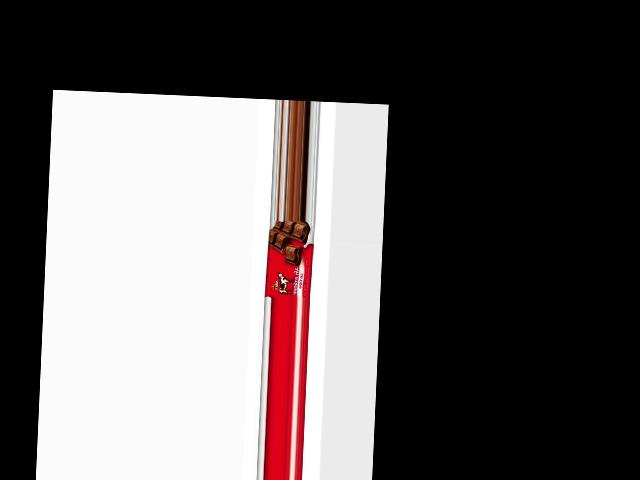chocolate: (265, 220, 314, 300)
